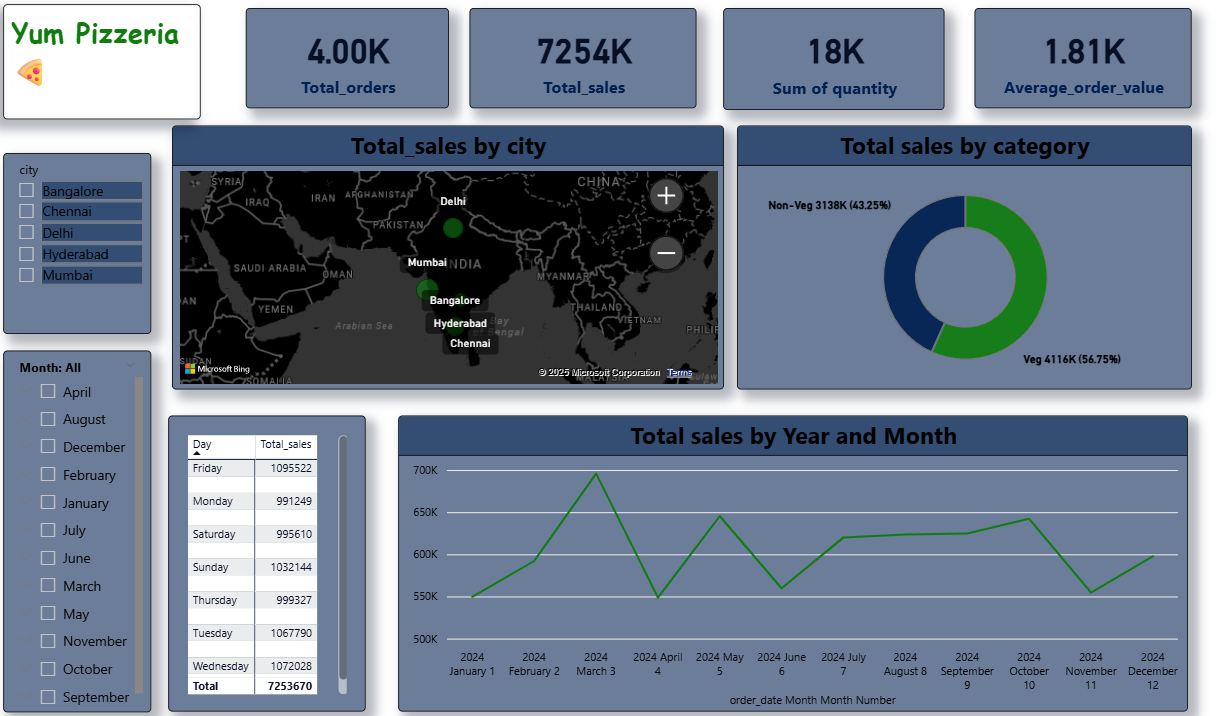

The dashboard page shown, as its layout file describes it:
{"tool":"powerbi","page":{"name":"Page 1","canvas":[1280,720],"ordinal":0},"visuals":[{"type":"card","fields":{"Values":["order_details.Total_sales"]},"box":[468.9,20,221.1,97.8],"z":0},{"type":"card","fields":{"Values":["order_details.Total_orders"]},"box":[251.1,20,197.8,97.8],"z":1000},{"type":"card","fields":{"Values":["Sum(order_details.quantity)"]},"box":[716.7,18.9,215.6,98.9],"z":2000},{"type":"card","fields":{"Values":["order_details.Average_order_value"]},"box":[960,18.9,211.1,97.8],"z":3000},{"type":"lineChart","title":"Total sales by Year and Month","fields":{"Category":["orders.order_date.Variation.Date Hierarchy.Year","orders.order_date.Variation.Date Hierarchy.Month","orders.Month Number"],"Y":["order_details.Total_sales"]},"box":[400,416,768,288],"z":4000},{"type":"map","fields":{"Category":["customers.city"],"Size":["order_details.Total_sales"]},"box":[180,133.3,536.7,256.7],"z":5000},{"type":"slicer","fields":{"Values":["customers.city"]},"box":[16,160,144,176],"z":6000},{"type":"pivotTable","fields":{"Rows":["orders.Day"],"Values":["order_details.Total_sales"]},"box":[176,416,192,288],"z":8000},{"type":"donutChart","title":"Total sales by category","fields":{"Category":["pizzas.category"],"Y":["order_details.Total_sales"]},"box":[728.9,133.3,442.2,256.7],"z":8500},{"type":"slicer","fields":{"Values":["orders.Month","orders.Month Number"]},"box":[16,352,144,352],"z":9000},{"type":"textbox","box":[16,16,192,112],"z":10000}]}

Visuals, with their boxes on the page's 1280x720 design canvas (x1, y1, x2, y2). These are canvas units, not pixel positions in the 1222x716 screenshot, which may show the page scaled, cropped or inside an application window:
card - order_details.Total_sales: region(469, 20, 690, 118)
card - order_details.Total_orders: region(251, 20, 449, 118)
card - Sum(order_details.quantity): region(717, 19, 932, 118)
card - order_details.Average_order_value: region(960, 19, 1171, 117)
"Total sales by Year and Month" lineChart: region(400, 416, 1168, 704)
map - customers.city x order_details.Total_sales: region(180, 133, 717, 390)
slicer - customers.city: region(16, 160, 160, 336)
pivotTable - orders.Day x order_details.Total_sales: region(176, 416, 368, 704)
"Total sales by category" donutChart: region(729, 133, 1171, 390)
slicer - orders.Month x orders.Month Number: region(16, 352, 160, 704)
textbox: region(16, 16, 208, 128)
